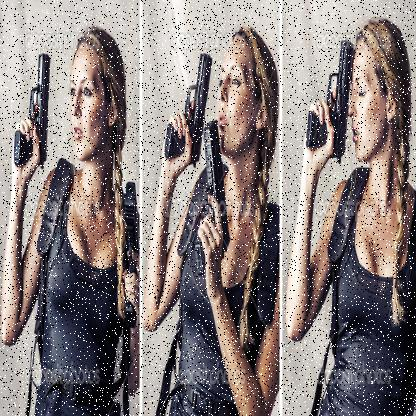pistol: (188, 115, 238, 277), (157, 48, 218, 164), (5, 45, 55, 184), (304, 45, 352, 161), (119, 164, 143, 303)
